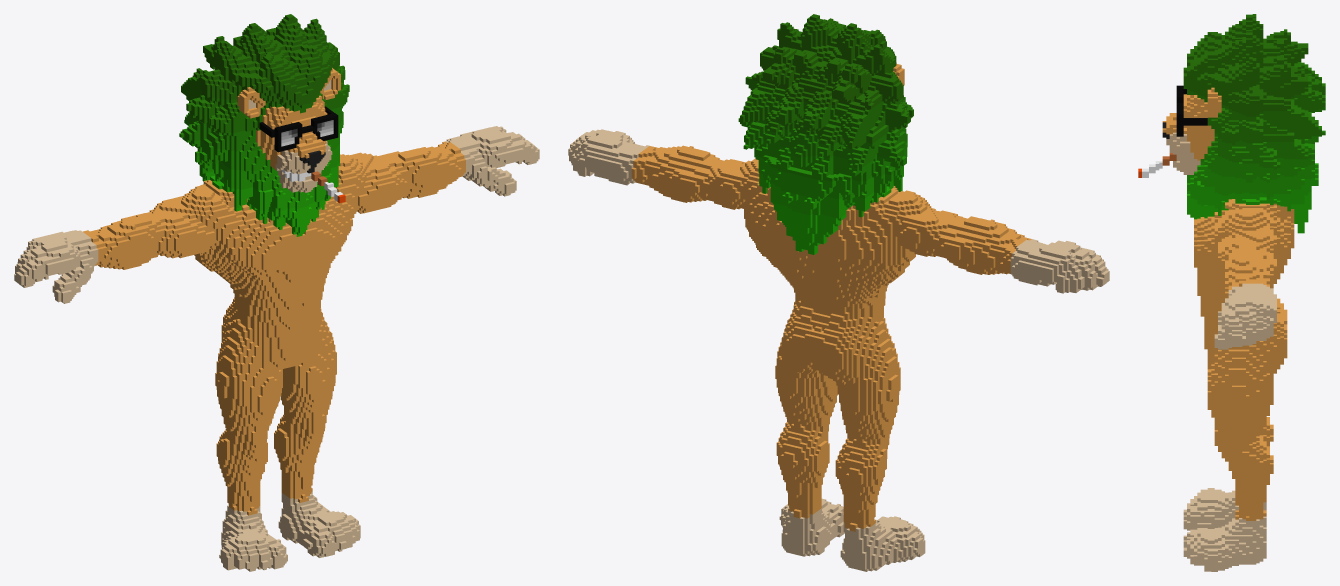
Rendered from 186-yH2DwpHL.glb.
The picture shows the model from 3 angles, left to right: view 1: azimuth 30°, elevation 25°; view 2: azimuth 150°, elevation 25°; view 3: azimuth 270°, elevation 25°; orthographic projection. The views are drawn at different scales.
Visible parts, largest first — view 1: cigarette; view 2: cigarette; view 3: cigarette.
Part boxes in pixels (x1,y1,x2,y2): cigarette: [14, 14, 539, 571]; cigarette: [568, 14, 1109, 571]; cigarette: [1138, 14, 1325, 571].
Size of the model in its own units: 17.2 by 16.5 by 5.4.
Materials: 4 (4 with a texture image).
